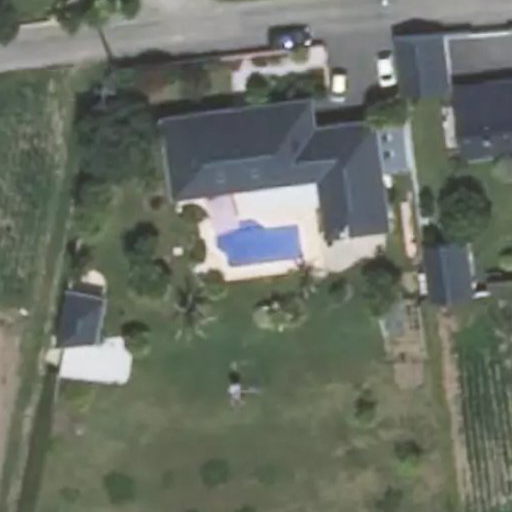pool: (209, 221, 302, 258)
